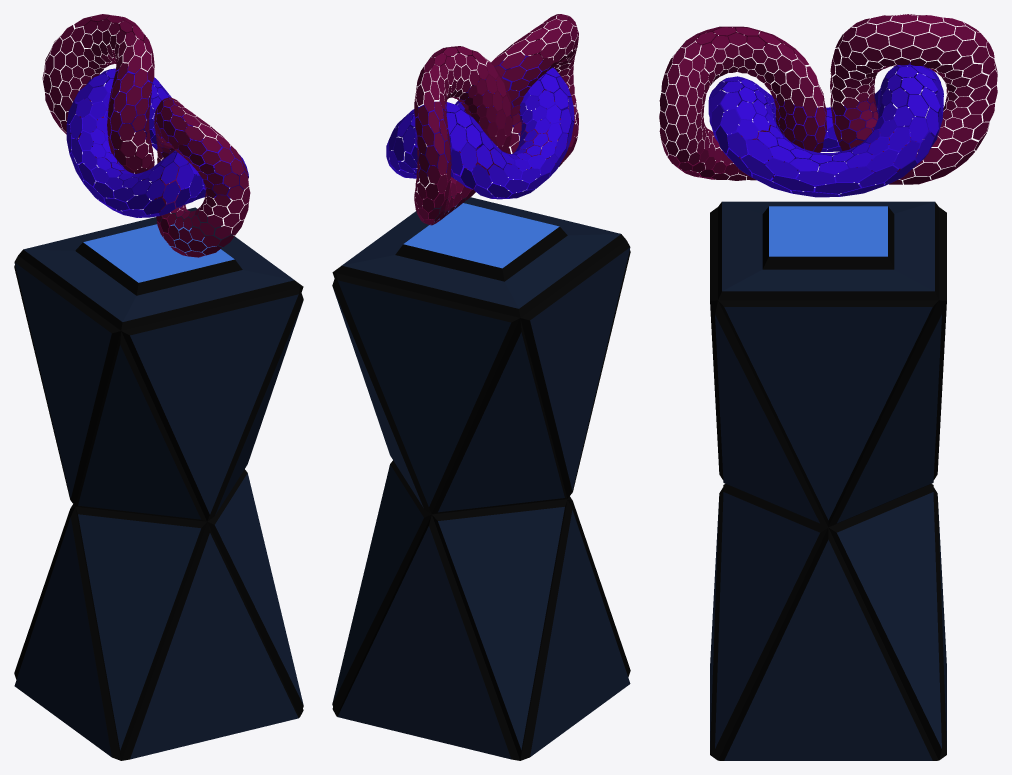
The model's file is parametric_honeycomb.FBX.
3 renders of one model, left to right at view 1: azimuth 30°, elevation 25°; view 2: azimuth 150°, elevation 25°; view 3: azimuth 270°, elevation 25°, orthographic. The views are drawn at different scales.
Visible parts, largest first — view 1: Pedestal004, honeycomb; view 2: Pedestal004, honeycomb; view 3: Pedestal004, honeycomb.
Part boxes in pixels (bbox=[...]): Pedestal004: bbox=[14, 207, 303, 760]; honeycomb: bbox=[42, 14, 250, 257]; Pedestal004: bbox=[332, 195, 630, 760]; honeycomb: bbox=[386, 14, 578, 225]; Pedestal004: bbox=[710, 201, 946, 760]; honeycomb: bbox=[659, 14, 997, 197].
Size of the model in its own units: 53.65 by 175 by 76.69.
